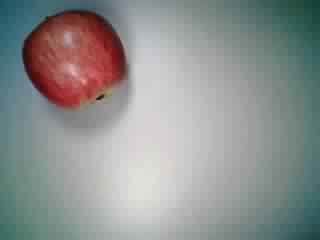apple: (21, 7, 125, 111)
